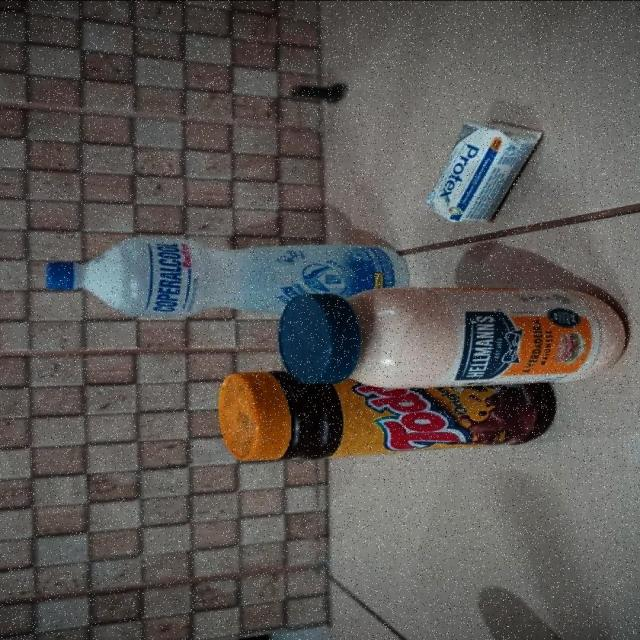AlcoholBottle: (44, 235, 413, 318)
ChocolatePowder: (217, 364, 559, 463)
Mayonnaise: (275, 282, 630, 388)
Soap: (423, 120, 548, 222)
